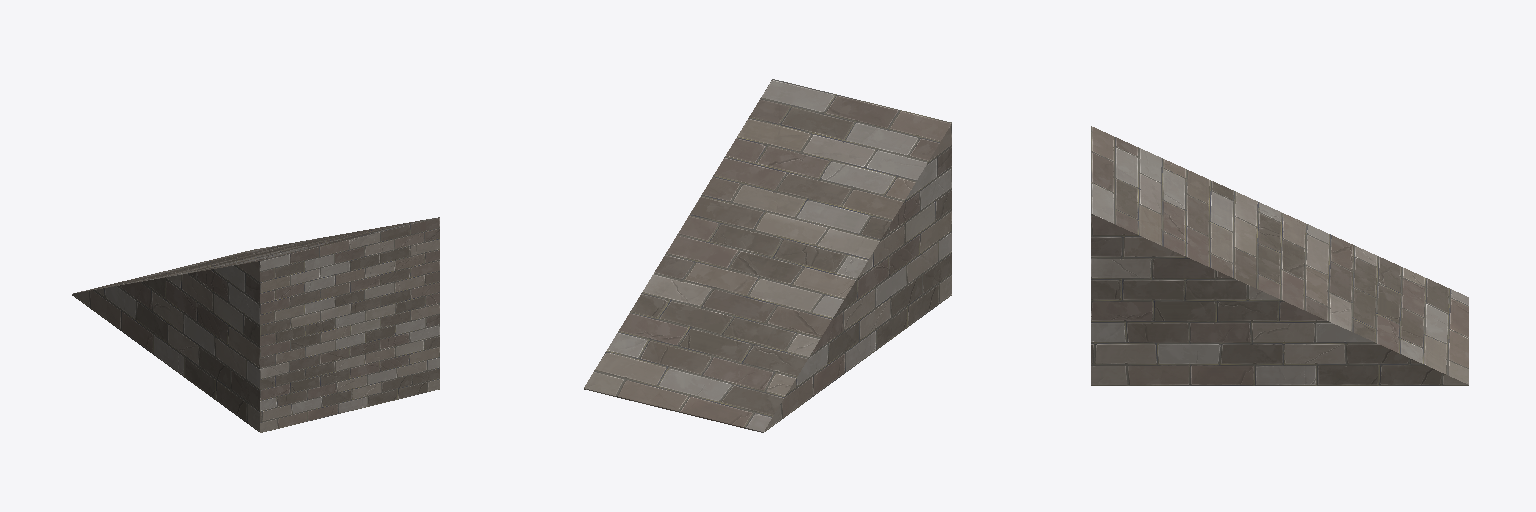
3 views of the same model, side by side, from view 1: azimuth 30°, elevation 25°; view 2: azimuth 150°, elevation 25°; view 3: azimuth 270°, elevation 25° (orthographic).
Parts seen in each view (by area): view 1: ramp_5_x_10; view 2: ramp_5_x_10; view 3: ramp_5_x_10.
Part boxes in pixels (left/top/right/bottom): ramp_5_x_10: left=72, top=217, right=439, bottom=432; ramp_5_x_10: left=584, top=79, right=951, bottom=432; ramp_5_x_10: left=1091, top=126, right=1468, bottom=385.
Bounding box in the file's own units: 5.5 × 5.03 × 10.
1 materials, 1 textured.